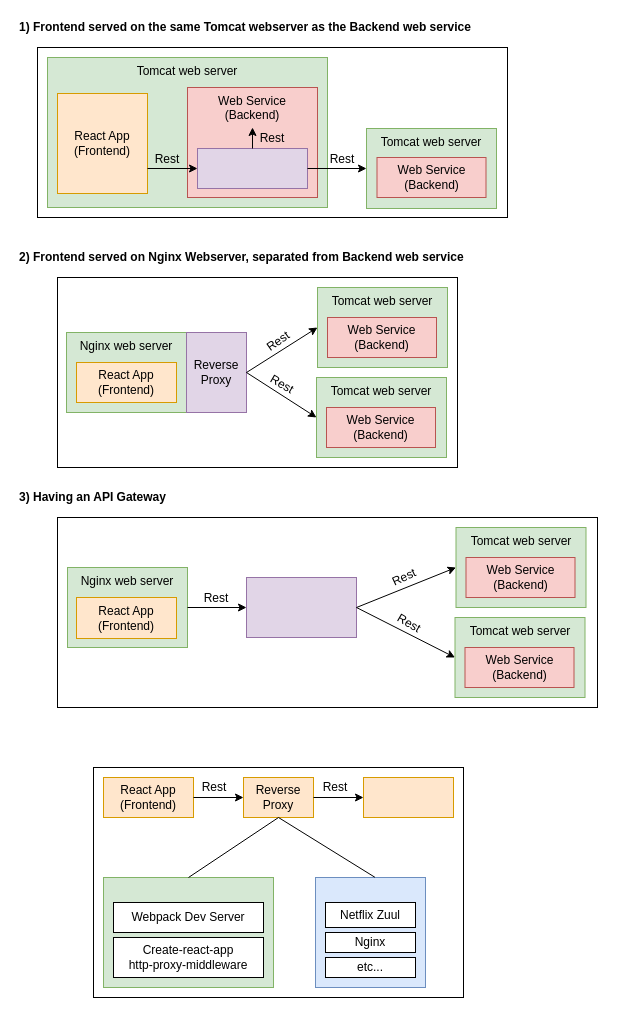
This 624x1015 diagram has some shape labels left out. Here are the shapes that lost their labels. From the top down, the box of each, then its label:
(196, 148, 308, 188): Netflix Zuul (Reverse Proxy)
(246, 576, 356, 638): API Gateway (Reverse Proxy)
(362, 776, 454, 818): Web Services (Backend)
(102, 876, 274, 988): Development
(314, 876, 426, 988): Production
